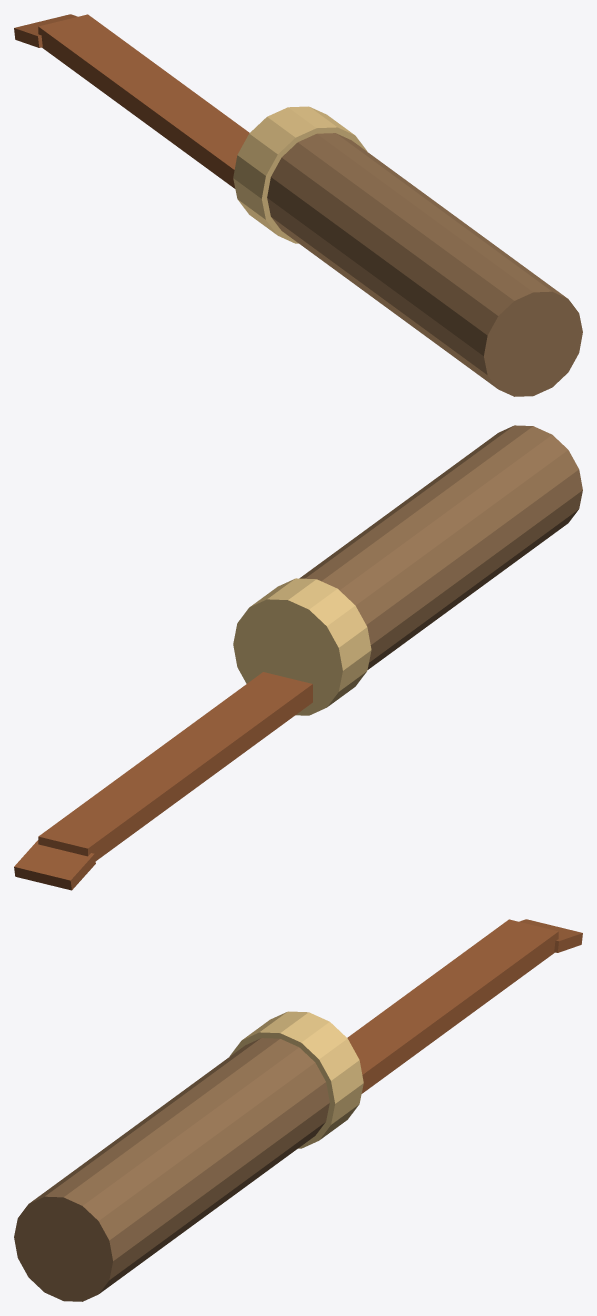
Rendered from Prop_Chisel.fbx.
The picture shows the model from 3 angles, top to bottom: view 1: azimuth 30°, elevation 25°; view 2: azimuth 150°, elevation 25°; view 3: azimuth 330°, elevation 25°; orthographic projection.
Parts seen in each view (by area): view 1: Chisel_Handle, Chisel_Blade, Chisel_Ferrule; view 2: Chisel_Handle, Chisel_Blade, Chisel_Ferrule; view 3: Chisel_Handle, Chisel_Blade, Chisel_Ferrule.
Boxes of the visible parts, x1,y1,x2,y2 form: Chisel_Handle: [267, 133, 582, 396]; Chisel_Blade: [14, 14, 249, 188]; Chisel_Ferrule: [233, 106, 367, 243]; Chisel_Handle: [299, 425, 582, 669]; Chisel_Blade: [14, 672, 312, 890]; Chisel_Ferrule: [233, 578, 371, 715]; Chisel_Handle: [14, 1038, 329, 1301]; Chisel_Blade: [347, 919, 582, 1093]; Chisel_Ferrule: [229, 1011, 363, 1148].
Bounding box in the file's own units: 0.031 × 0.031 × 0.2402.
